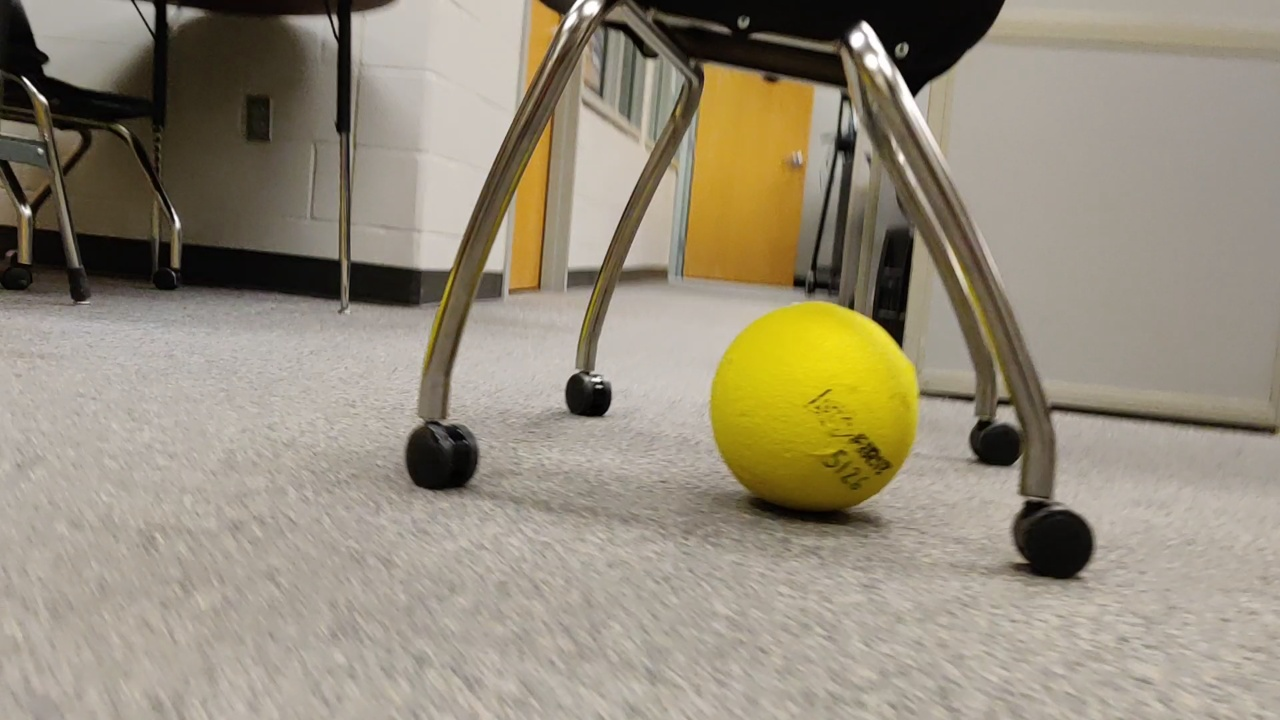Ball: (712, 303, 921, 518)
